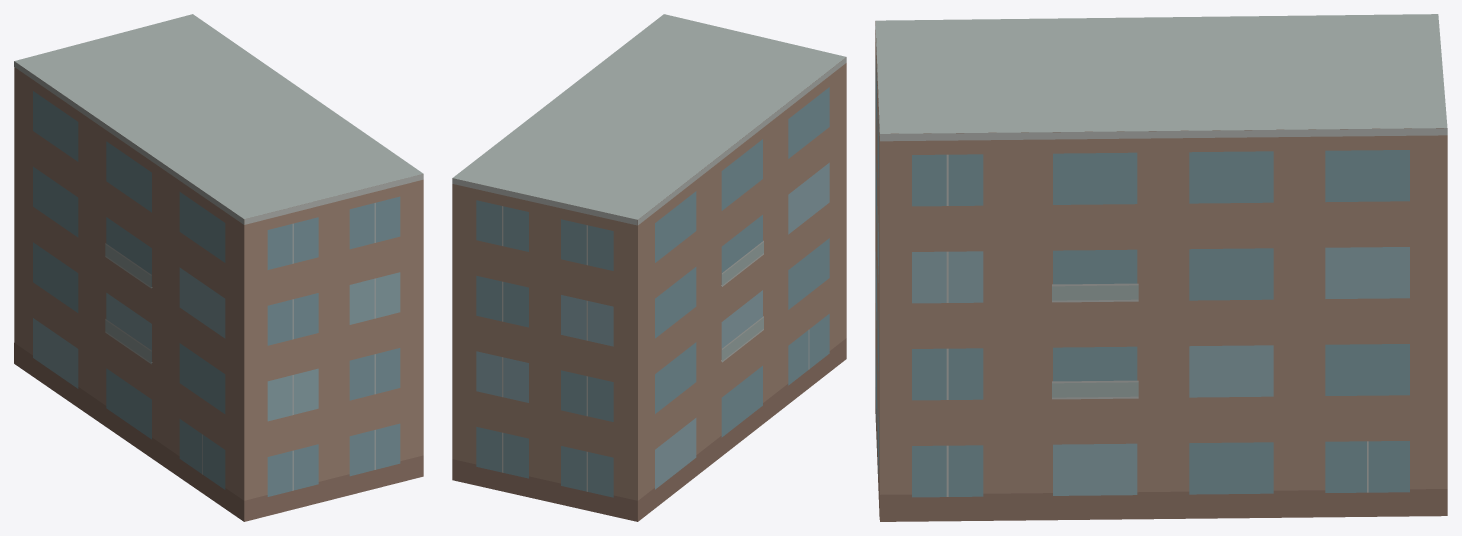
Rendered from survey-upis-32629041.glb.
3 renders of one model, left to right at view 1: azimuth 30°, elevation 25°; view 2: azimuth 150°, elevation 25°; view 3: azimuth 270°, elevation 25°, orthographic. The views are drawn at different scales.
Parts seen in each view (by area): view 1: survey-upis-32629041.tmp; view 2: survey-upis-32629041.tmp; view 3: survey-upis-32629041.tmp.
Boxes of the visible parts, x1,y1,x2,y2 form: survey-upis-32629041.tmp: (14,14,423,521); survey-upis-32629041.tmp: (452,14,846,521); survey-upis-32629041.tmp: (875,14,1447,521).
Bounding box in the file's own units: 8.49 × 12.8 × 17.12.
